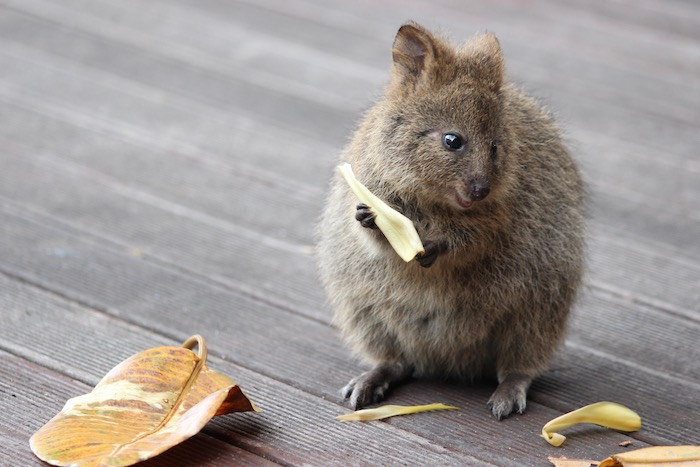quokka: (290, 13, 611, 419)
